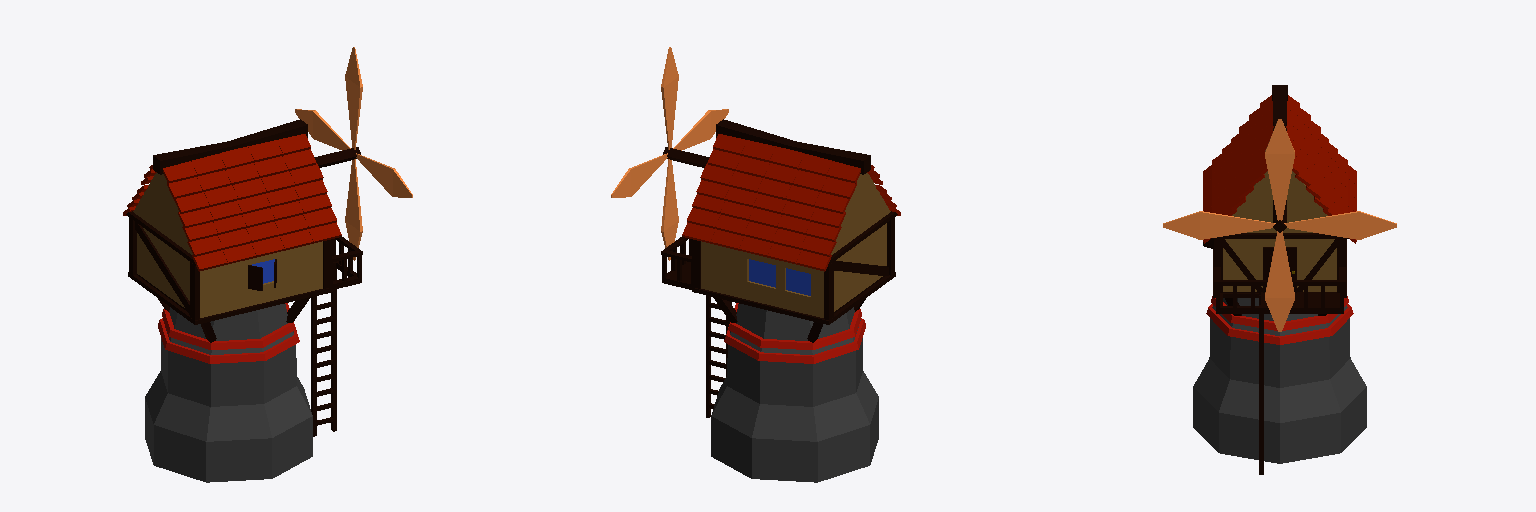
Rendered from Windmill.obj.
3 views of the same model, side by side, from view 1: azimuth 30°, elevation 25°; view 2: azimuth 150°, elevation 25°; view 3: azimuth 270°, elevation 25° (orthographic).
Parts seen in each view (by area): view 1: Windmill_Cube.002; view 2: Windmill_Cube.002; view 3: Windmill_Cube.002.
Boxes of the visible parts, x1,y1,x2,y2 form: Windmill_Cube.002: [123, 47, 412, 482]; Windmill_Cube.002: [611, 47, 900, 482]; Windmill_Cube.002: [1163, 85, 1396, 474].
Bounding box in the file's own units: 13.61 × 23.44 × 13.5.